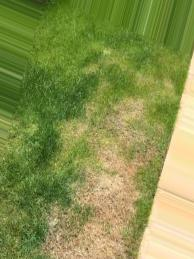patch: (51, 210, 125, 258), (95, 154, 129, 207)
